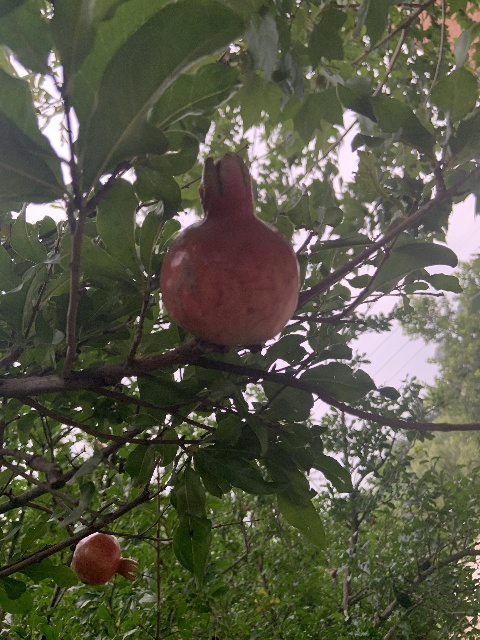ripe: (159, 153, 300, 347), (72, 532, 138, 585)
